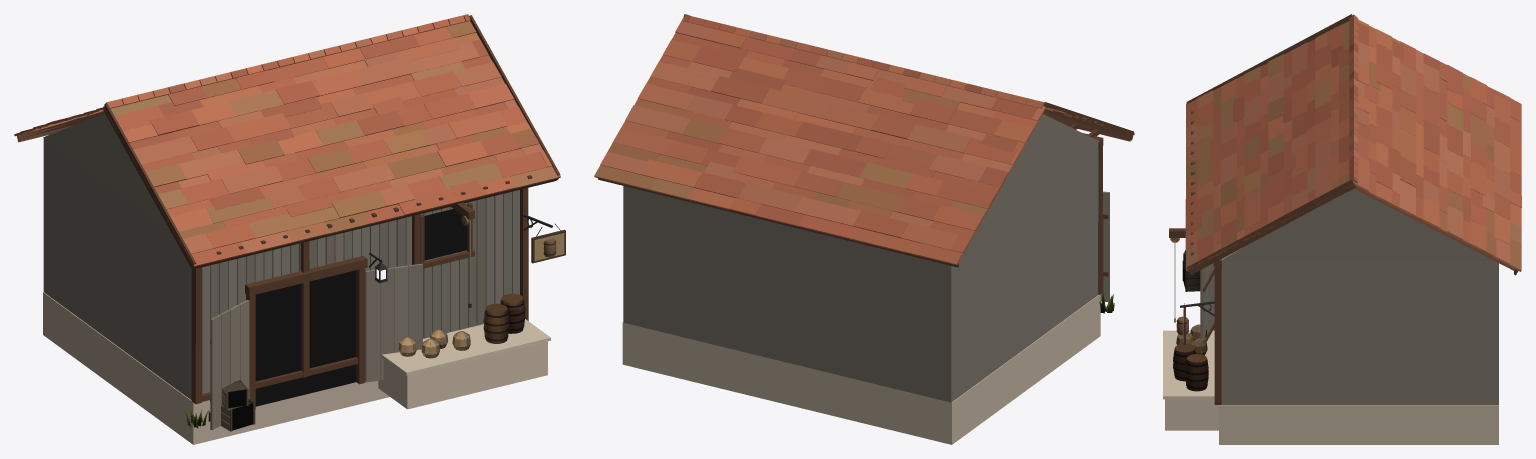
File: almacen_ribera.glb
3 views of the same model, side by side, from view 1: azimuth 30°, elevation 25°; view 2: azimuth 150°, elevation 25°; view 3: azimuth 270°, elevation 25° (orthographic). The views are drawn at different scales.
Parts seen in each view (by area): view 1: almacen_ribera_fijo, almacen_ribera_piezas; view 2: almacen_ribera_fijo; view 3: almacen_ribera_fijo, almacen_ribera_piezas.
Boxes of the visible parts, <box> form: almacen_ribera_fijo: <box>14,14,565,444</box>; almacen_ribera_piezas: <box>221,293,525,431</box>; almacen_ribera_fijo: <box>594,14,1134,444</box>; almacen_ribera_fijo: <box>1163,14,1521,444</box>; almacen_ribera_piezas: <box>1173,250,1208,391</box>.
Size of the model in its own units: 10 by 7.57 by 9.03.
